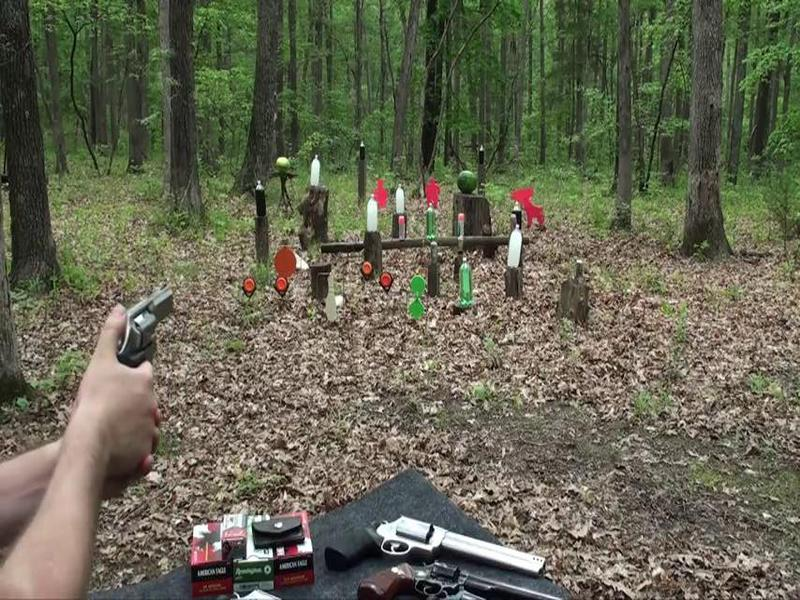Revolver: (94, 284, 195, 383)
